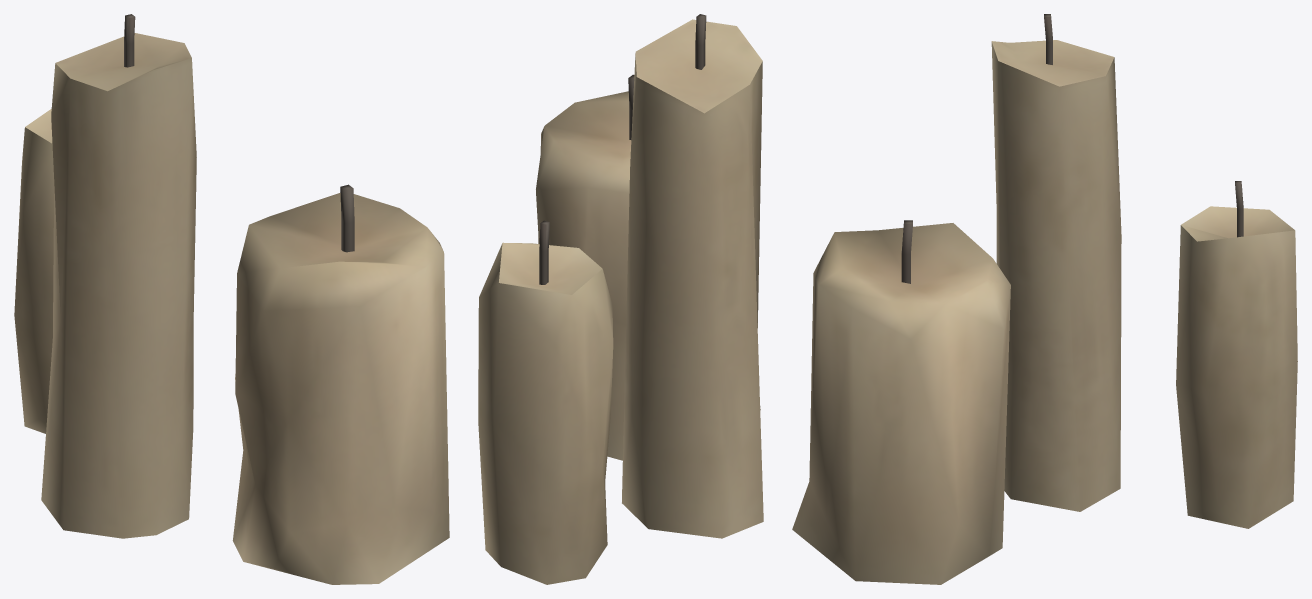
The model's file is SM_Candles_2.fbx.
3 renders of one model, left to right at view 1: azimuth 30°, elevation 25°; view 2: azimuth 150°, elevation 25°; view 3: azimuth 270°, elevation 25°, orthographic. The views are drawn at different scales.
Visible parts, largest first — view 1: SM_Candles_2_LOD0; view 2: SM_Candles_2_LOD0; view 3: SM_Candles_2_LOD0.
Part boxes in pixels (x1,y1,x2,y2): SM_Candles_2_LOD0: (14,14,449,584); SM_Candles_2_LOD0: (478,14,763,584); SM_Candles_2_LOD0: (792,14,1297,584).
Size of the model in its own units: 17.79 by 27.61 by 28.33.
